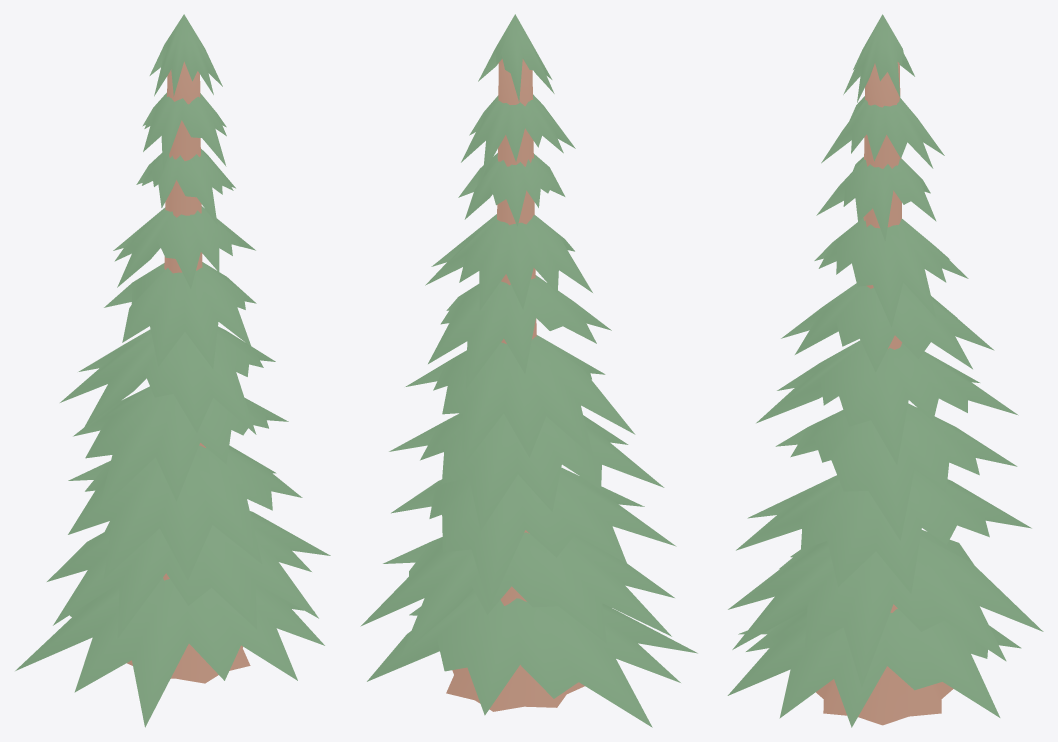
Rendered from Blender_RedCedar_2_Far.glb.
The picture shows the model from 3 angles, left to right: view 1: azimuth 30°, elevation 25°; view 2: azimuth 150°, elevation 25°; view 3: azimuth 270°, elevation 25°; orthographic projection. The views are drawn at different scales.
Visible parts, largest first — view 1: Blender_RedCedar_2_Far; view 2: Blender_RedCedar_2_Far; view 3: Blender_RedCedar_2_Far.
Part boxes in pixels (x1,y1,x2,y2): Blender_RedCedar_2_Far: (15,14,330,727); Blender_RedCedar_2_Far: (360,14,697,727); Blender_RedCedar_2_Far: (727,14,1043,727).
Size of the model in its own units: 20.58 by 43.69 by 18.46.
